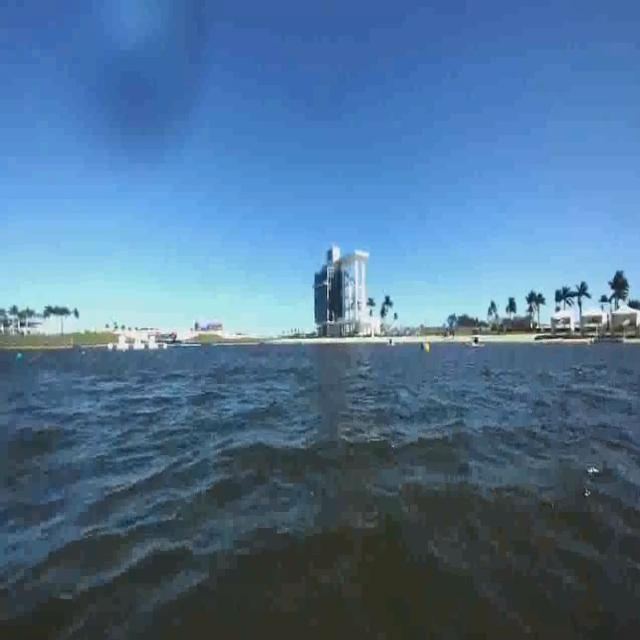yellow-buoy: (424, 342, 431, 355)
